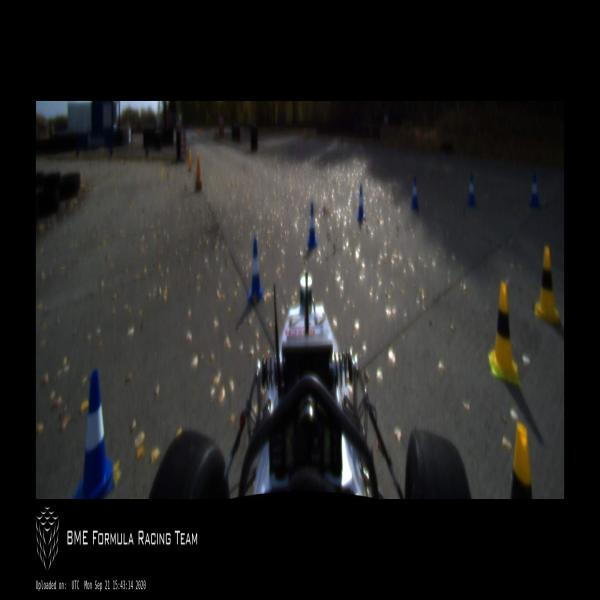blue_cone: (73, 370, 113, 499), (247, 241, 263, 300), (307, 205, 317, 245), (530, 173, 540, 208), (467, 172, 476, 206), (410, 176, 418, 211), (356, 186, 364, 221)
yellow_cone: (489, 281, 519, 385), (535, 245, 560, 326), (510, 421, 532, 499)
